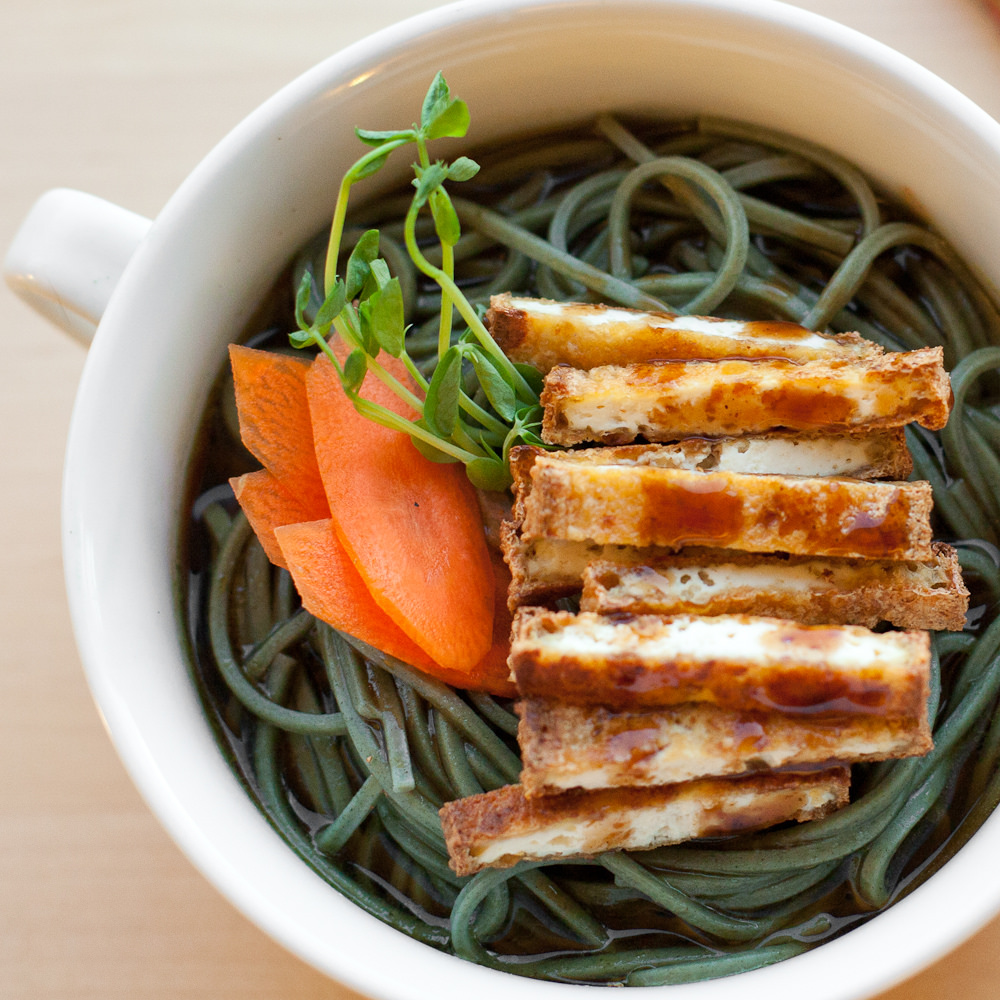Soba: (211, 146, 997, 970)
